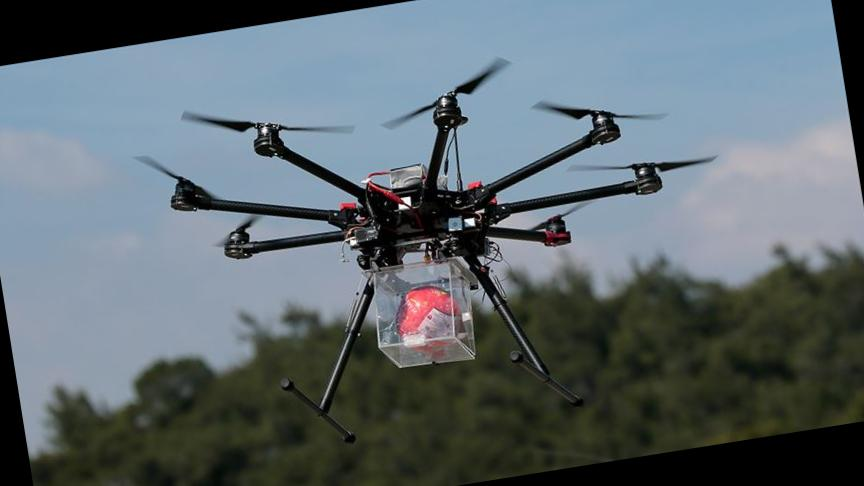drone: (124, 0, 729, 369)
